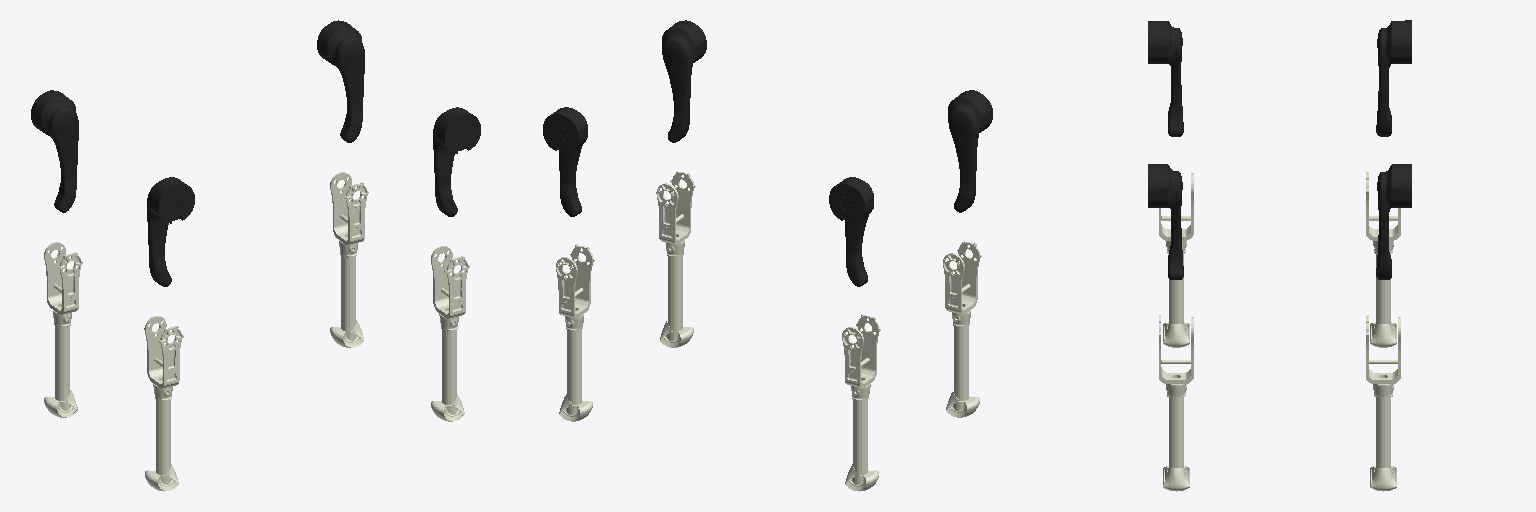
URDF robot description (Hound_description):

<robot name="Hound_description" xmlns:xacro="http://www.ros.org/wiki/xacro">
  <material name="black">
    <color rgba="0.0 0.0 0.0 1.0"/>
  </material>
  <material name="blue">
    <color rgba="0.0 0.0 0.8 1.0"/>
  </material>
  <material name="green">
    <color rgba="0.0 0.8 0.0 1.0"/>
  </material>
  <material name="grey">
    <color rgba="0.2 0.2 0.2 1.0"/>
  </material>
  <material name="silver">
    <color rgba="0.913725490196 0.913725490196 0.847058823529 1.0"/>
  </material>
  <material name="orange">
    <color rgba="1.0 0.423529411765 0.0392156862745 1.0"/>
  </material>
  <material name="brown">
    <color rgba="0.870588235294 0.811764705882 0.764705882353 1.0"/>
  </material>
  <material name="red">
    <color rgba="0.8 0.0 0.0 1.0"/>
  </material>
  <material name="white">
    <color rgba="1.0 1.0 1.0 1.0"/>
  </material>

  <link name="trunk">
    <visual>
      <origin rpy="0 0 0" xyz="0 0 0"/>
      <geometry>
        <mesh filename="base.stl" scale="1 1 1"/>
      </geometry>
      <material name="silver"/>
    </visual>
    <collision>
      <origin rpy="0 0 0" xyz="0 0 0"/>
      <geometry>
        <box size="0.55800000 0.28000000 0.16400000"/>
      </geometry>
    </collision>
    <inertial>
      <origin rpy="0 0 0" xyz="-0.00407276 0.00141638 0.00481511"/>
      <mass value="26.70000000"/>
      <inertia ixx="0.28785726" ixy="-0.00662284" ixz="-0.00388278" iyy="0.98299330" iyz="0.00122766" izz="1.16936671"/>
    </inertial>
  </link>


  <joint name="RR_roll_joint" type="revolute">
    <origin rpy="0 0 0" xyz="-0.37500000 -0.10000000 0.00000000"/>
    <parent link="trunk"/>
    <child link="RR_shoulder"/>
    <axis xyz="1 0 0"/>
    <dynamics rotor_inertia="0.01323732" damping="0" friction="0"/>
    <limit effort="180.00000000" lower="-0.78539816" upper="0.78539816" velocity="100.00000000"/>
  </joint>
  <link name="RR_shoulder">
    <visual>
      <origin rpy="0 3.141592 0" xyz="0 0 0"/>
      <geometry>
        <mesh filename="shoulder.stl" scale="1 1 1"/>
      </geometry>
      <material name="grey"/>
    </visual>
    <collision>
      <origin rpy="1.57079632679 0 0" xyz="0 -0.01750000 0"/>
      <geometry>
        <cylinder length="0.14500000" radius="0.08100000"/>
      </geometry>
    </collision>
    <inertial>
      <origin rpy="0 0 0" xyz="-0.00707032 0.02389593 -0.00006497"/>
      <mass value="3.97000000"/>
      <inertia ixx="0.00993164" ixy="-0.00033442" ixz="0.00000000" iyy="0.01580543" iyz="-0.00000000" izz="0.01211113"/>
    </inertial>
  </link>
  <joint name="RR_hip_joint" type="revolute">
    <origin rpy="0 0 0" xyz="0 -0.12860000 0"/>
    <parent link="RR_shoulder"/>
    <child link="RR_thigh"/>
    <axis xyz="0 1 0"/>
    <dynamics rotor_inertia="0.03330373" damping="0" friction="0"/>
    <limit effort="180.00000000" lower="-6.28318531" upper="6.28318531" velocity="100.00000000"/>
  </joint>
  <link name="RR_thigh">
    <visual>
      <origin rpy="0 0 0" xyz="0 0 0"/>
      <geometry>
        <mesh filename="thigh.stl" scale="1 1 1"/>
      </geometry>
      <material name="grey"/>
    </visual>
    <collision>
      <origin rpy="0 0 0" xyz="0 0 -0.17425000"/>
      <geometry>
        <box size="0.07800000 0.06900000 0.42100000"/>
      </geometry>
    </collision>
    <inertial>
      <origin rpy="0 0 0" xyz="0.00000000 0.06122941 -0.09740008"/>
      <mass value="1.54800000"/>
      <inertia ixx="0.02517926" ixy="0.00000000" ixz="0.00000000" iyy="0.02442722" iyz="-0.00415327" izz="0.00333936"/>
    </inertial>
  </link>

  <joint name="RR_knee_joint" type="revolute">
    <origin rpy="0 0 0" xyz="0 0 -0.34850000"/>
    <parent link="RR_thigh"/>
    <child link="RR_calf"/>
    <axis xyz="0 1 0"/>
    <dynamics rotor_inertia="0.03187804" damping="0" friction="0"/>
    <limit effort="180.00000000" lower="-2.61799388" upper="2.61799388" velocity="100.00000000"/>
  </joint>
  <link name="RR_calf">
    <visual>
      <origin rpy="0 0 0" xyz="0 0 0"/>
      <geometry>
        <mesh filename="calf.stl" scale="1 1 1"/>
      </geometry>
      <material name="silver"/>
    </visual>
    <collision>
      <origin rpy="0 0 0" xyz="0 0 -0.20400000"/>
      <geometry>
        <cylinder length="0.29300000" radius="0.02500000"/>
      </geometry>
    </collision>
    <inertial>
      <origin rpy="0 0 0" xyz="0.00000000 0.00000000 -0.10949417"/>
      <mass value="0.70876911"/>
      <inertia ixx="0.01174540" ixy="0.00000000" ixz="0.00012760" iyy="0.01152561" iyz="0.00000000" izz="0.00054020"/>
    </inertial>
  </link>
  <joint name="RR_foot_fixed" type="fixed">
    <origin rpy="0 0 0" xyz="0 0 -0.35050000"/>
    <parent link="RR_calf"/>
    <child link="RR_foot"/>
  </joint>
  <link name="RR_foot">
<!--
    <visual>
      <origin rpy="0 0 0" xyz="0 0 0"/>
      <geometry>
        <sphere radius="0.04100000"/>
      </geometry>
    </visual>
-->
    <collision>
      <origin rpy="0 0 0" xyz="0 0 0"/>
      <geometry>
        <sphere radius="0.04100000"/>
      </geometry>
    </collision>
    <inertial>
      <origin rpy="0 0 0" xyz="0 0 0"/>
      <mass value="0.01"/>
      <inertia ixx="0.000001" ixy="0.0" ixz="-0.0" iyy="0.000001" iyz="-0.0" izz="0.000001"/>
    </inertial>
  </link>

	
  <joint name="RL_roll_joint" type="revolute">
    <origin rpy="0 0 0" xyz="-0.37500000 0.10000000 0.00000000"/>
    <parent link="trunk"/>
    <child link="RL_shoulder"/>
    <axis xyz="1 0 0"/>
    <dynamics rotor_inertia="0.01323732" damping="0" friction="0"/>
    <limit effort="180.00000000" lower="-0.78539816" upper="0.78539816" velocity="100.00000000"/>
  </joint>
  <link name="RL_shoulder">
    <visual>
      <origin rpy="0 0 3.141592" xyz="0 0 0"/>
      <geometry>
        <mesh filename="shoulder.stl" scale="1 1 1"/>
      </geometry>
      <material name="grey"/>
    </visual>
    <collision>
      <origin rpy="1.57079632679 0 0" xyz="0 0.01750000 0"/>
      <geometry>
        <cylinder length="0.14500000" radius="0.08100000"/>
      </geometry>
    </collision>
    <inertial>
      <origin rpy="0 0 0" xyz="-0.00707032 -0.02389593 0.00006497"/>
      <mass value="3.97000000"/>
      <inertia ixx="0.00993164" ixy="0.00033442" ixz="-0.00000000" iyy="0.01580543" iyz="-0.00000000" izz="0.01211113"/>
    </inertial>
  </link>
  <joint name="RL_hip_joint" type="revolute">
    <origin rpy="0 0 0" xyz="0 0.12860000 0"/>
    <parent link="RL_shoulder"/>
    <child link="RL_thigh"/>
    <axis xyz="0 1 0"/>
    <dynamics rotor_inertia="0.03330373" damping="0" friction="0"/>
    <limit effort="180.00000000" lower="-6.28318531" upper="6.28318531" velocity="100.00000000"/>
  </joint>
  <link name="RL_thigh">
    <visual>
      <origin rpy="0 0 3.141592" xyz="0 0 0"/>
      <geometry>
        <mesh filename="thigh.stl" scale="1 1 1"/>
      </geometry>
      <material name="grey"/>
    </visual>
    <collision>
      <origin rpy="0 0 0" xyz="0 0 -0.17425000"/>
      <geometry>
        <box size="0.07800000 0.06900000 0.42100000"/>
      </geometry>
    </collision>
    <inertial>
      <origin rpy="0 0 0" xyz="-0.00000000 -0.06122941 -0.09740008"/>
      <mass value="1.54800000"/>
      <inertia ixx="0.02517926" ixy="0.00000000" ixz="-0.00000000" iyy="0.02442722" iyz="0.00415327" izz="0.00333936"/>
    </inertial>
  </link>
  <joint name="RL_knee_joint" type="revolute">
    <origin rpy="0 0 0" xyz="0 0 -0.34850000"/>
    <parent link="RL_thigh"/>
    <child link="RL_calf"/>
    <axis xyz="0 1 0"/>
    <dynamics rotor_inertia="0.03187804" damping="0" friction="0"/>
    <limit effort="180.00000000" lower="-2.61799388" upper="2.61799388" velocity="100.00000000"/>
  </joint>
  <link name="RL_calf">
    <visual>
      <origin rpy="0 0 0" xyz="0 0 0"/>
      <geometry>
        <mesh filename="calf.stl" scale="1 1 1"/>
      </geometry>
      <material name="silver"/>
    </visual>
    <collision>
      <origin rpy="0 0 0" xyz="0 0 -0.20400000"/>
      <geometry>
        <cylinder length="0.29300000" radius="0.02500000"/>
      </geometry>
    </collision>
    <inertial>
      <origin rpy="0 0 0" xyz="0.00000000 -0.00000000 -0.10949417"/>
      <mass value="0.70876911"/>
      <inertia ixx="0.01174540" ixy="-0.00000000" ixz="0.00012760" iyy="0.01152561" iyz="-0.00000000" izz="0.00054020"/>
    </inertial>
  </link>
  <joint name="RL_foot_fixed" type="fixed">
    <origin rpy="0 0 0" xyz="0 0 -0.35050000"/>
    <parent link="RL_calf"/>
    <child link="RL_foot"/>
  </joint>
  <link name="RL_foot">
<!--
    <visual>
      <origin rpy="0 0 0" xyz="0 0 0"/>
      <geometry>
        <sphere radius="0.04100000"/>
      </geometry>
    </visual>
-->
    <collision>
      <origin rpy="0 0 0" xyz="0 0 0"/>
      <geometry>
        <sphere radius="0.04100000"/>
      </geometry>
    </collision>
    <inertial>
      <origin rpy="0 0 0" xyz="0 0 0"/>
      <mass value="0.01"/>
      <inertia ixx="0.000001" ixy="0.0" ixz="-0.0" iyy="0.000001" iyz="-0.0" izz="0.000001"/>
    </inertial>
  </link>


  <joint name="FR_roll_joint" type="revolute">
    <origin rpy="0 0 0" xyz="0.37500000 -0.10000000 0.00000000"/>
    <parent link="trunk"/>
    <child link="FR_shoulder"/>
    <axis xyz="1 0 0"/>
    <dynamics rotor_inertia="0.01323732" damping="0" friction="0"/>
    <limit effort="180.00000000" lower="-0.78539816" upper="0.78539816" velocity="100.00000000"/>
  </joint>
  <link name="FR_shoulder">
    <visual>
      <origin rpy="0 0 0" xyz="0 0 0"/>
      <geometry>
        <mesh filename="shoulder.stl" scale="1 1 1"/>
      </geometry>
      <material name="grey"/>
    </visual>
    <collision>
      <origin rpy="1.57079632679 0 0" xyz="0 -0.01750000 0"/>
      <geometry>
        <cylinder length="0.14500000" radius="0.08100000"/>
      </geometry>
    </collision>
    <inertial>
      <origin rpy="0 0 0" xyz="0.00707032 0.02389593 0.00006497"/>
      <mass value="3.97000000"/>
      <inertia ixx="0.00993164" ixy="0.00033442" ixz="0.00000000" iyy="0.01580543" iyz="0.00000000" izz="0.01211113"/>
    </inertial>
  </link>
  <joint name="FR_hip_joint" type="revolute">
    <origin rpy="0 0 0" xyz="0 -0.12860000 0"/>
    <parent link="FR_shoulder"/>
    <child link="FR_thigh"/>
    <axis xyz="0 1 0"/>
    <dynamics rotor_inertia="0.03330373" damping="0" friction="0"/>
    <limit effort="180.00000000" lower="-6.28318531" upper="6.28318531" velocity="100.00000000"/>
  </joint>
  <link name="FR_thigh">
    <visual>
      <origin rpy="0 0 0" xyz="0 0 0"/>
      <geometry>
        <mesh filename="thigh.stl" scale="1 1 1"/>
      </geometry>
      <material name="grey"/>
    </visual>
    <collision>
      <origin rpy="0 0 0" xyz="0 0 -0.17425000"/>
      <geometry>
        <box size="0.07800000 0.06900000 0.42100000"/>
      </geometry>
    </collision>
    <inertial>
      <origin rpy="0 0 0" xyz="0.00000000 0.06122941 -0.09740008"/>
      <mass value="1.54800000"/>
      <inertia ixx="0.02517926" ixy="0.00000000" ixz="0.00000000" iyy="0.02442722" iyz="-0.00415327" izz="0.00333936"/>
    </inertial>
  </link>
  <joint name="FR_knee_joint" type="revolute">
    <origin rpy="0 0 0" xyz="0 0 -0.34850000"/>
    <parent link="FR_thigh"/>
    <child link="FR_calf"/>
    <axis xyz="0 1 0"/>
    <dynamics rotor_inertia="0.03187804" damping="0" friction="0"/>
    <limit effort="180.00000000" lower="-2.61799388" upper="2.61799388" velocity="100.00000000"/>
  </joint>
  <link name="FR_calf">
    <visual>
      <origin rpy="0 0 0" xyz="0 0 0"/>
      <geometry>
        <mesh filename="calf.stl" scale="1 1 1"/>
      </geometry>
      <material name="silver"/>
    </visual>
    <collision>
      <origin rpy="0 0 0" xyz="0 0 -0.20400000"/>
      <geometry>
        <cylinder length="0.29300000" radius="0.02500000"/>
      </geometry>
    </collision>
    <inertial>
      <origin rpy="0 0 0" xyz="0.00000000 0.00000000 -0.10949417"/>
      <mass value="0.70876911"/>
      <inertia ixx="0.01174540" ixy="0.00000000" ixz="0.00012760" iyy="0.01152561" iyz="0.00000000" izz="0.00054020"/>
    </inertial>
  </link>
  <joint name="FR_foot_fixed" type="fixed">
    <origin rpy="0 0 0" xyz="0 0 -0.35050000"/>
    <parent link="FR_calf"/>
    <child link="FR_foot"/>
  </joint>
  <link name="FR_foot">
<!--
    <visual>
      <origin rpy="0 0 0" xyz="0 0 0"/>
      <geometry>
        <sphere radius="0.04100000"/>
      </geometry>
    </visual>
-->
    <collision>
      <origin rpy="0 0 0" xyz="0 0 0"/>
      <geometry>
        <sphere radius="0.04100000"/>
      </geometry>
    </collision>
    <inertial>
      <origin rpy="0 0 0" xyz="0 0 0"/>
      <mass value="0.01"/>
      <inertia ixx="0.000001" ixy="0.0" ixz="-0.0" iyy="0.000001" iyz="-0.0" izz="0.000001"/>
    </inertial>
  </link>


  <joint name="FL_roll_joint" type="revolute">
    <origin rpy="0 0 0" xyz="0.37500000 0.10000000 0.00000000"/>
    <parent link="trunk"/>
    <child link="FL_shoulder"/>
    <axis xyz="1 0 0"/>
    <dynamics rotor_inertia="0.01323732" damping="0" friction="0"/>
    <limit effort="180.00000000" lower="-0.78539816" upper="0.78539816" velocity="100.00000000"/>
  </joint>
  <link name="FL_shoulder">
    <visual>
      <origin rpy="3.141592 0 0" xyz="0 0 0"/>
      <geometry>
        <mesh filename="shoulder.stl" scale="1 1 1"/>
      </geometry>
      <material name="grey"/>
    </visual>
    <collision>
      <origin rpy="1.57079632679 0 0" xyz="0 0.01750000 0"/>
      <geometry>
        <cylinder length="0.14500000" radius="0.08100000"/>
      </geometry>
    </collision>
    <inertial>
      <origin rpy="0 0 0" xyz="0.00707032 -0.02389593 -0.00006497"/>
      <mass value="3.97000000"/>
      <inertia ixx="0.00993164" ixy="-0.00033442" ixz="-0.00000000" iyy="0.01580543" iyz="0.00000000" izz="0.01211113"/>
    </inertial>
  </link>
  <joint name="FL_hip_joint" type="revolute">
    <origin rpy="0 0 0" xyz="0 0.12860000 0"/>
    <parent link="FL_shoulder"/>
    <child link="FL_thigh"/>
    <axis xyz="0 1 0"/>
    <dynamics rotor_inertia="0.03330373" damping="0" friction="0"/>
    <limit effort="180.00000000" lower="-6.28318531" upper="6.28318531" velocity="100.00000000"/>
  </joint>
  <link name="FL_thigh">
    <visual>
      <origin rpy="0 0 3.141592" xyz="0 0 0"/>
      <geometry>
        <mesh filename="thigh.stl" scale="1 1 1"/>
      </geometry>
      <material name="grey"/>
    </visual>
    <collision>
      <origin rpy="0 0 0" xyz="0 0 -0.17425000"/>
      <geometry>
        <box size="0.07800000 0.06900000 0.42100000"/>
      </geometry>
    </collision>
    <inertial>
      <origin rpy="0 0 0" xyz="-0.00000000 -0.06122941 -0.09740008"/>
      <mass value="1.54800000"/>
      <inertia ixx="0.02517926" ixy="0.00000000" ixz="-0.00000000" iyy="0.02442722" iyz="0.00415327" izz="0.00333936"/>
    </inertial>
  </link>
  <joint name="FL_knee_joint" type="revolute">
    <origin rpy="0 0 0" xyz="0 0 -0.34850000"/>
    <parent link="FL_thigh"/>
    <child link="FL_calf"/>
    <axis xyz="0 1 0"/>
    <dynamics rotor_inertia="0.03187804" damping="0" friction="0"/>
    <limit effort="180.00000000" lower="-2.61799388" upper="2.61799388" velocity="100.00000000"/>
  </joint>
  <link name="FL_calf">
    <visual>
      <origin rpy="0 0 0" xyz="0 0 0"/>
      <geometry>
        <mesh filename="calf.stl" scale="1 1 1"/>
      </geometry>
      <material name="silver"/>
    </visual>
    <collision>
      <origin rpy="0 0 0" xyz="0 0 -0.20400000"/>
      <geometry>
        <cylinder length="0.29300000" radius="0.02500000"/>
      </geometry>
    </collision>
    <inertial>
      <origin rpy="0 0 0" xyz="0.00000000 -0.00000000 -0.10949417"/>
      <mass value="0.70876911"/>
      <inertia ixx="0.01174540" ixy="-0.00000000" ixz="0.00012760" iyy="0.01152561" iyz="-0.00000000" izz="0.00054020"/>
    </inertial>
  </link>
  <joint name="FL_foot_fixed" type="fixed">
    <origin rpy="0 0 0" xyz="0 0 -0.35050000"/>
    <parent link="FL_calf"/>
    <child link="FL_foot"/>
  </joint>
  <link name="FL_foot">
<!--
    <visual>
      <origin rpy="0 0 0" xyz="0 0 0"/>
      <geometry>
        <sphere radius="0.04100000"/>
      </geometry>
    </visual>
-->
    <collision>
      <origin rpy="0 0 0" xyz="0 0 0"/>
      <geometry>
        <sphere radius="0.04100000"/>
      </geometry>
    </collision>
    <inertial>
      <origin rpy="0 0 0" xyz="0 0 0"/>
      <mass value="0.01"/>
      <inertia ixx="0.000001" ixy="0.0" ixz="-0.0" iyy="0.000001" iyz="-0.0" izz="0.000001"/>
    </inertial>
  </link>


</robot>

--- Facts derived from the render (not from the file) ---
3 views of the same robot in one strip: view 1: azimuth 30°, elevation 25°; view 2: azimuth 150°, elevation 25°; view 3: azimuth 270°, elevation 25° (orthographic).
Model Hound_description with 17 links and 16 joints (12 revolute, 4 fixed), rooted at trunk, posed every joint at zero.
Links seen in each view (by area): view 1: RR_calf, FR_calf, RL_calf, FL_calf, RL_thigh, FL_thigh, RR_thigh, FR_thigh; view 2: RR_calf, FR_calf, RL_calf, FL_calf, FR_thigh, RR_thigh, RL_thigh, FL_thigh; view 3: FL_calf, FR_calf, FR_thigh, RR_thigh, FL_thigh, RL_thigh, RL_calf, RR_calf.
Link boxes in pixels (left/top/right/bottom): RR_calf: left=144, top=316, right=183, bottom=491; FR_calf: left=431, top=246, right=469, bottom=421; RL_calf: left=44, top=242, right=82, bottom=417; FL_calf: left=330, top=172, right=368, bottom=347; RL_thigh: left=31, top=90, right=78, bottom=212; FL_thigh: left=317, top=20, right=364, bottom=142; RR_thigh: left=147, top=177, right=194, bottom=286; FR_thigh: left=433, top=107, right=480, bottom=216; RR_calf: left=943, top=240, right=981, bottom=417; FR_calf: left=656, top=171, right=695, bottom=347; RL_calf: left=842, top=314, right=880, bottom=491; FL_calf: left=556, top=244, right=594, bottom=421; FR_thigh: left=662, top=20, right=706, bottom=142; RR_thigh: left=948, top=90, right=992, bottom=212; RL_thigh: left=829, top=177, right=873, bottom=286; FL_thigh: left=543, top=107, right=587, bottom=216; FL_calf: left=1366, top=315, right=1400, bottom=491; FR_calf: left=1159, top=315, right=1193, bottom=491; FR_thigh: left=1148, top=164, right=1183, bottom=279; RR_thigh: left=1148, top=21, right=1183, bottom=136; FL_thigh: left=1376, top=164, right=1411, bottom=279; RL_thigh: left=1376, top=20, right=1411, bottom=136; RL_calf: left=1366, top=171, right=1400, bottom=347; RR_calf: left=1159, top=173, right=1193, bottom=347.
Size in the robot's own frame: 0.844 by 0.5806 by 0.789 metres.
Meshes: 4 distinct files referenced, 8 mesh visuals loaded (2 binary STL); not drawn: 5 (reference not matched to a file when rendering).